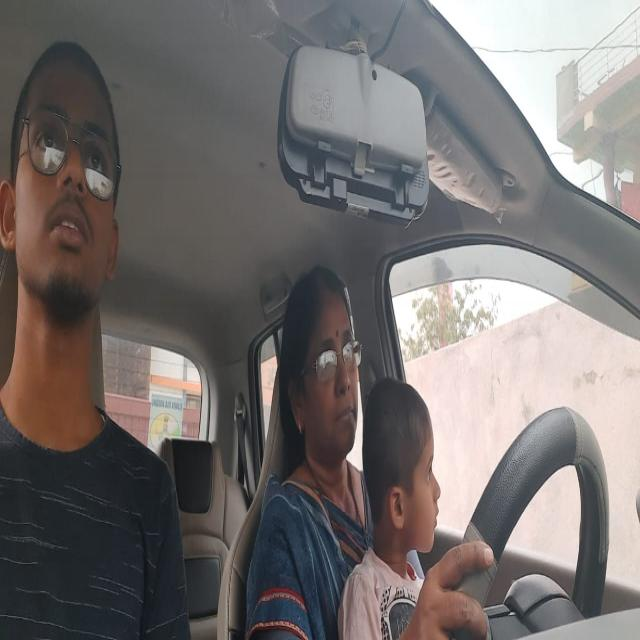child: (359, 374, 442, 566)
person: (0, 24, 130, 323), (276, 262, 361, 463)
